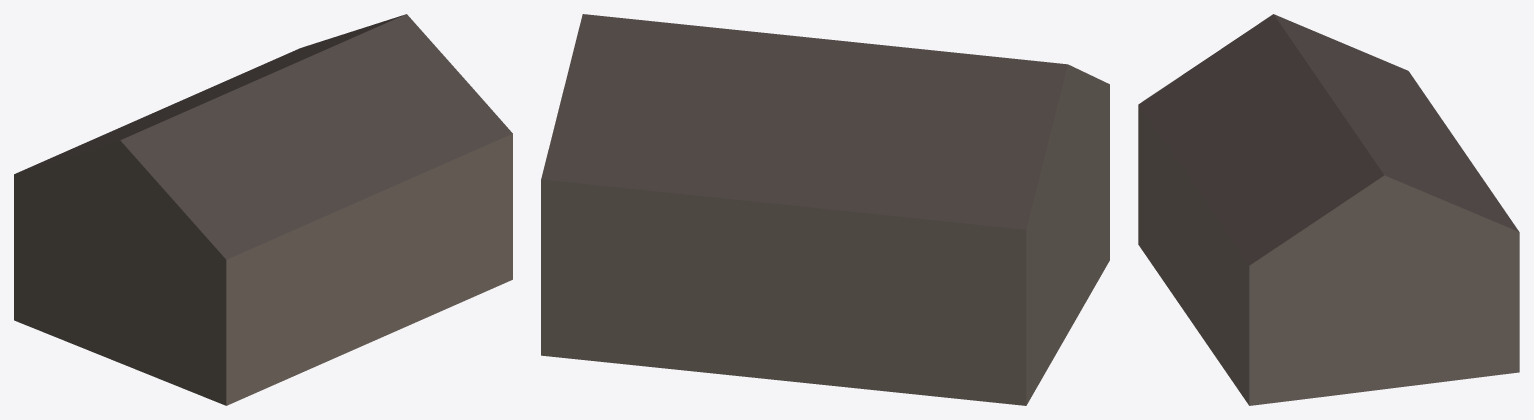
The picture shows the model from 3 angles, left to right: view 1: azimuth 30°, elevation 25°; view 2: azimuth 150°, elevation 25°; view 3: azimuth 270°, elevation 25°; orthographic projection. The views are drawn at different scales.
Visible parts, largest first — view 1: HP-w1198645055; view 2: HP-w1198645055; view 3: HP-w1198645055.
Boxes of the visible parts, x1,y1,x2,y2 form: HP-w1198645055: (14, 14, 512, 405); HP-w1198645055: (541, 14, 1109, 405); HP-w1198645055: (1138, 14, 1519, 405).
Bounding box in the file's own units: 17.88 × 9.15 × 14.78.
